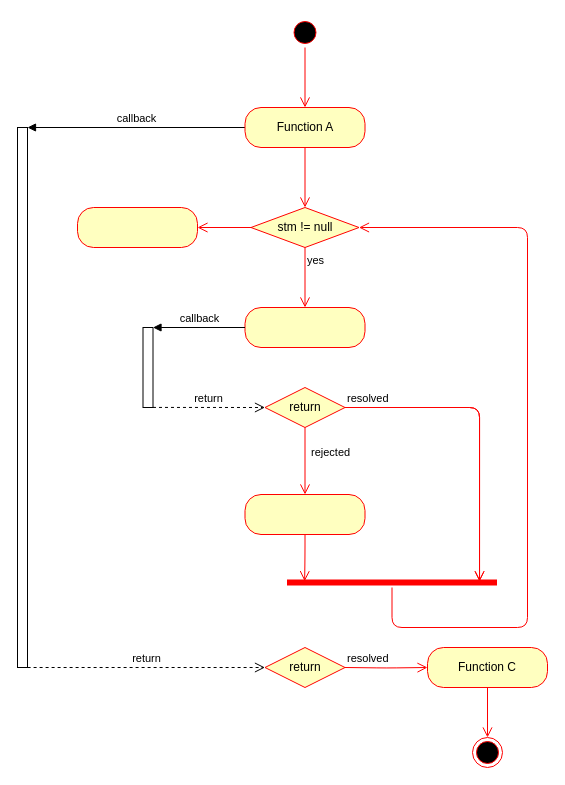
This 565x785 diagram has some shape labels left out. Each missing label, with the box of its shape:
do callback: (76, 206, 198, 248)
Function B: (244, 306, 365, 348)
Log Error: (244, 494, 365, 534)
